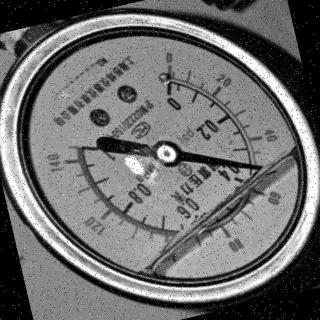gauge: (0, 0, 320, 320), (139, 31, 211, 120), (60, 128, 106, 172), (149, 135, 183, 171), (252, 158, 277, 180)
